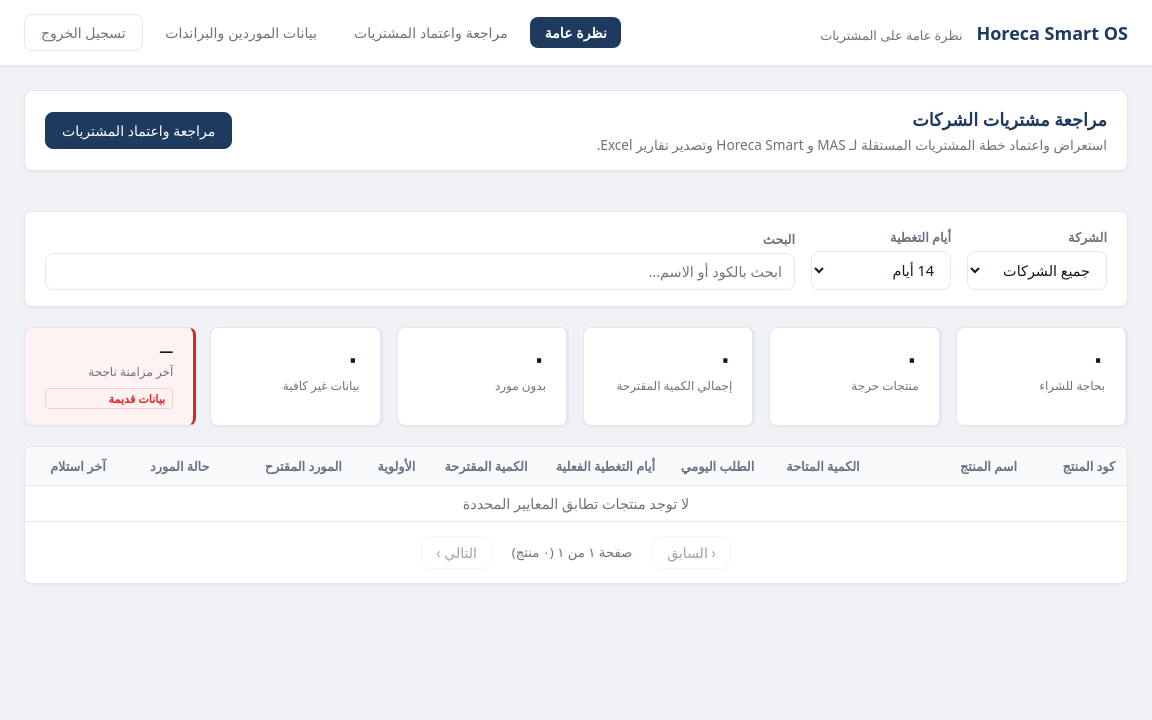
it: Procurement Application Navigation › displays top-level procurement navigation and allows navigating between pages
Expected: the heading "Horeca Smart OS" is shown, [976, 20, 1128, 44]
Expected: the button "نظرة عامة" is shown, [530, 17, 622, 48]
Click "مراجعة واعتماد المشتريات"
Click the button "مراجعة واعتماد المشتريات" in the row of "نظرة عامة على المشتريات" at (431, 32), box [339, 17, 522, 48]
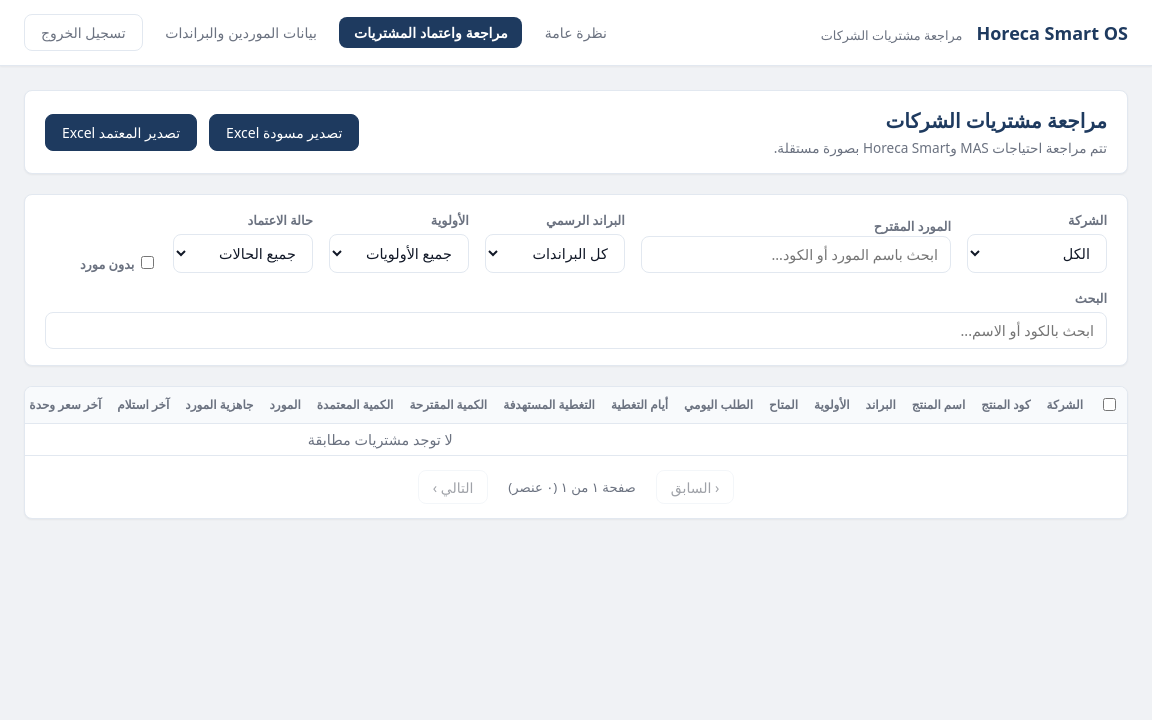
Result: the heading "مراجعة مشتريات الشركات" is shown at [886, 107, 1107, 134]
Result: the button "تصدير مسودة Excel" is shown at [209, 114, 359, 150]
Result: the button "تصدير المعتمد Excel" is shown at [45, 114, 197, 150]
Click "نظرة عامة" to return
Click the button "نظرة عامة" at (576, 32), box [530, 17, 622, 48]
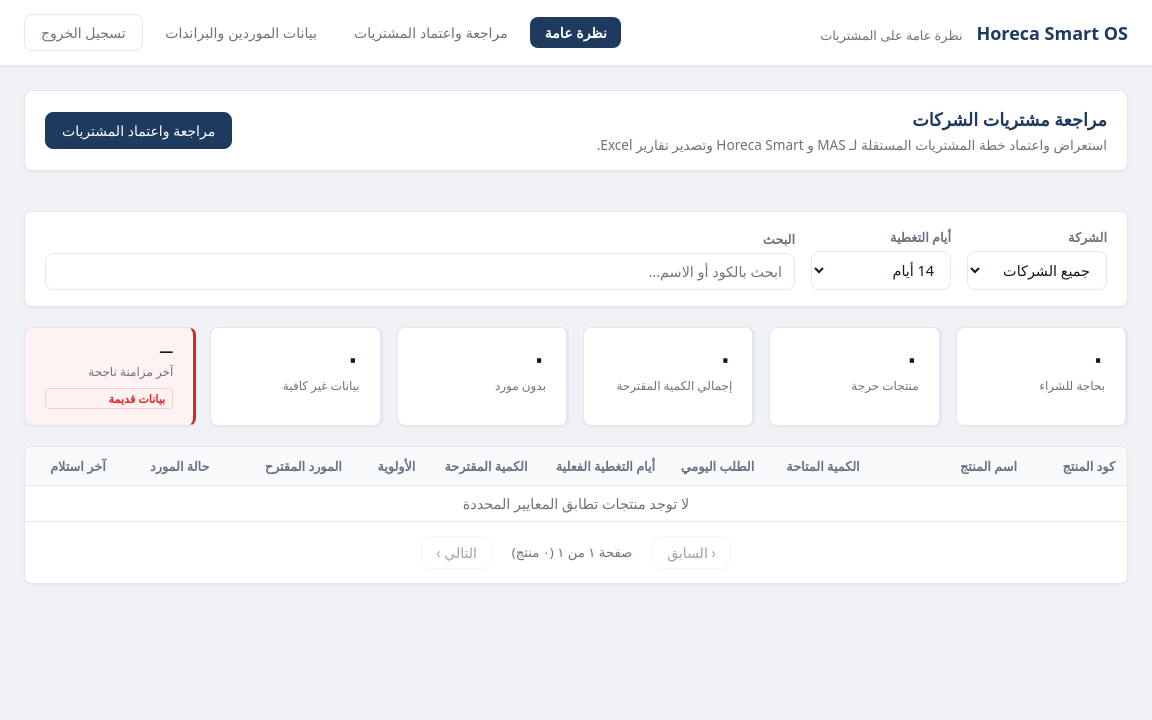
Result: the text "نظرة عامة على المشتريات" is shown at [820, 26, 962, 44]
